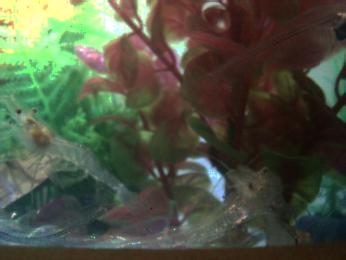glassfish: (205, 1, 346, 102), (1, 184, 120, 244)
siberian prawn: (7, 96, 151, 221), (225, 164, 311, 244)
